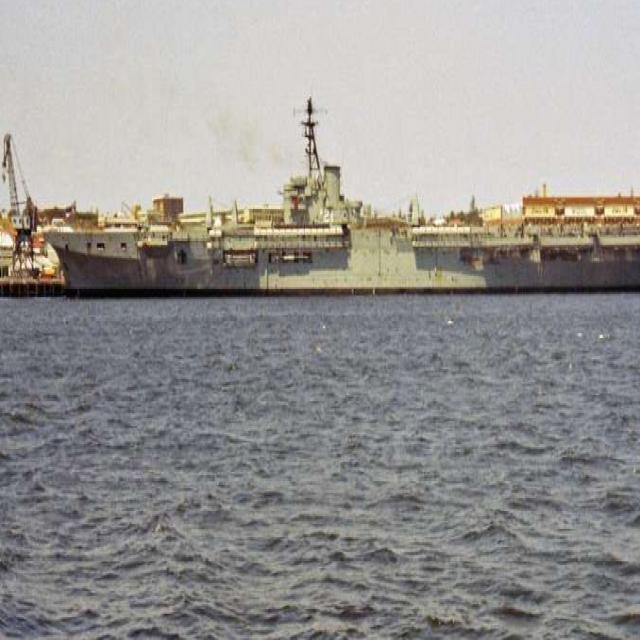Portanaves: (41, 82, 640, 306)
